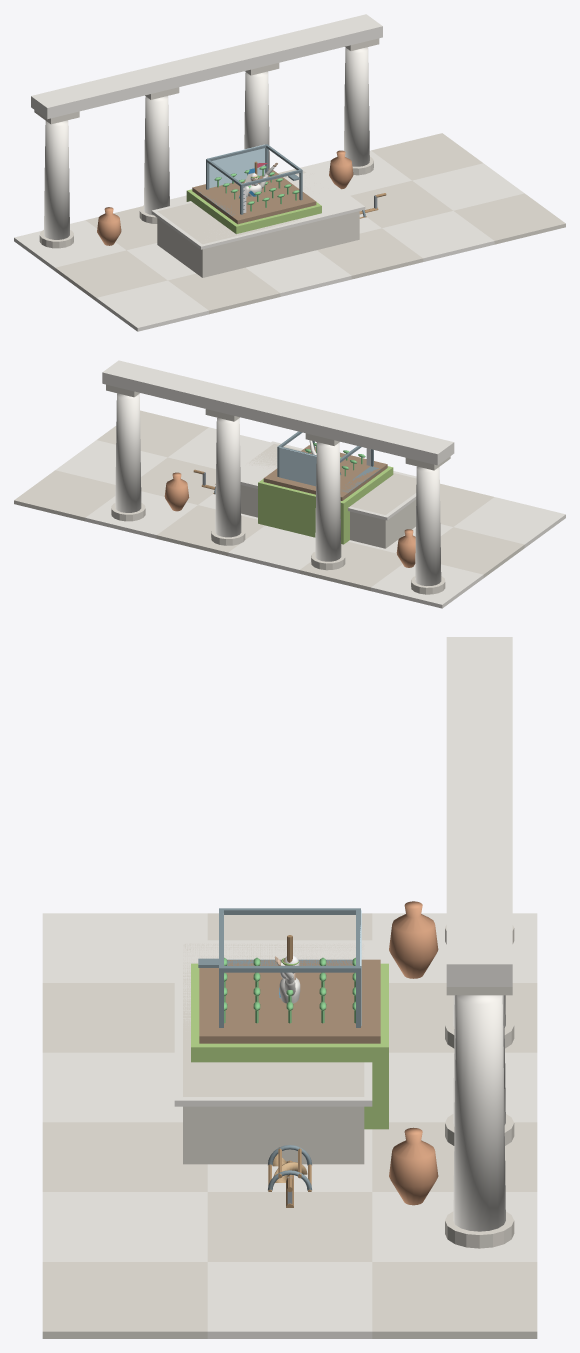
File: archimedes.glb
3 renders of one model, top to bottom at view 1: azimuth 30°, elevation 25°; view 2: azimuth 150°, elevation 25°; view 3: azimuth 270°, elevation 25°, orthographic. The views are drawn at different scales.
Parts seen in each view (by area): view 1: lab_beam, lab_table, lab_tile0_0, lab_tile4_0, lab_tile5_0, lab_tile0_1, lab_tile1_0, lab_column0, lab_tile5_1, lab_tile5_2, lab_tile3_0, lab_table_top (+14 smaller); view 2: lab_beam, lab_table, field_bank, lab_tile5_2, lab_tile0_0, lab_column2, lab_column3, lab_column1, lab_column0, lab_tile0_1, lab_tile2_2, lab_tile1_2 (+18 smaller); view 3: lab_beam, lab_table, lab_tile5_0, lab_tile5_1, lab_tile5_2, field_soil, lab_column3, lab_tile4_0, lab_tile4_1, lab_tile3_0, lab_tile0_0, lab_tile2_0 (+15 smaller).
Boxes of the visible parts, bbox=[...] form: lab_beam: bbox=[31, 14, 382, 119]; lab_table: bbox=[157, 173, 359, 277]; lab_tile0_0: bbox=[96, 280, 208, 331]; lab_tile4_0: bbox=[382, 211, 494, 261]; lab_tile5_0: bbox=[453, 193, 565, 244]; lab_tile0_1: bbox=[55, 250, 167, 300]; lab_tile1_0: bbox=[168, 267, 280, 314]; lab_column0: bbox=[44, 120, 69, 239]; lab_tile5_1: bbox=[412, 163, 524, 210]; lab_tile5_2: bbox=[371, 133, 482, 180]; lab_tile3_0: bbox=[317, 228, 423, 279]; lab_table_top: bbox=[151, 170, 365, 249]; lab_beam: bbox=[102, 360, 454, 465]; lab_table: bbox=[240, 443, 416, 548]; field_bank: bbox=[258, 466, 393, 544]; lab_tile5_2: bbox=[14, 470, 115, 521]; lab_tile0_0: bbox=[454, 497, 565, 547]; lab_column2: bbox=[215, 417, 241, 537]; lab_column3: bbox=[115, 393, 141, 512]; lab_column1: bbox=[315, 442, 341, 561]; lab_column0: bbox=[415, 466, 441, 585]; lab_tile0_1: bbox=[440, 527, 524, 577]; lab_tile2_2: bbox=[228, 525, 315, 573]; lab_tile1_2: bbox=[299, 541, 402, 590]; lab_beam: bbox=[446, 637, 512, 986]; lab_table: bbox=[183, 943, 364, 1164]; lab_tile5_0: bbox=[42, 1262, 207, 1338]; lab_tile5_1: bbox=[207, 1262, 372, 1338]; lab_tile5_2: bbox=[372, 1262, 537, 1338]; field_soil: bbox=[199, 959, 380, 1043]; lab_column3: bbox=[453, 995, 505, 1231]; lab_tile4_0: bbox=[42, 1192, 207, 1261]; lab_tile4_1: bbox=[207, 1192, 372, 1261]; lab_tile3_0: bbox=[42, 1122, 207, 1191]; lab_tile0_0: bbox=[42, 913, 207, 982]; lab_tile2_0: bbox=[42, 1052, 182, 1122].
Size of the model in its own units: 12 by 4.11 by 6.
